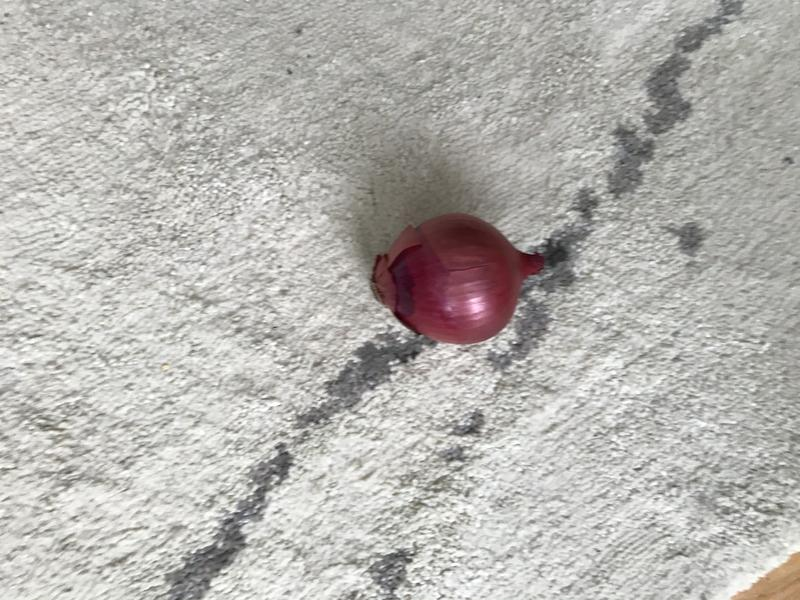purple_onion: (363, 202, 549, 353)
